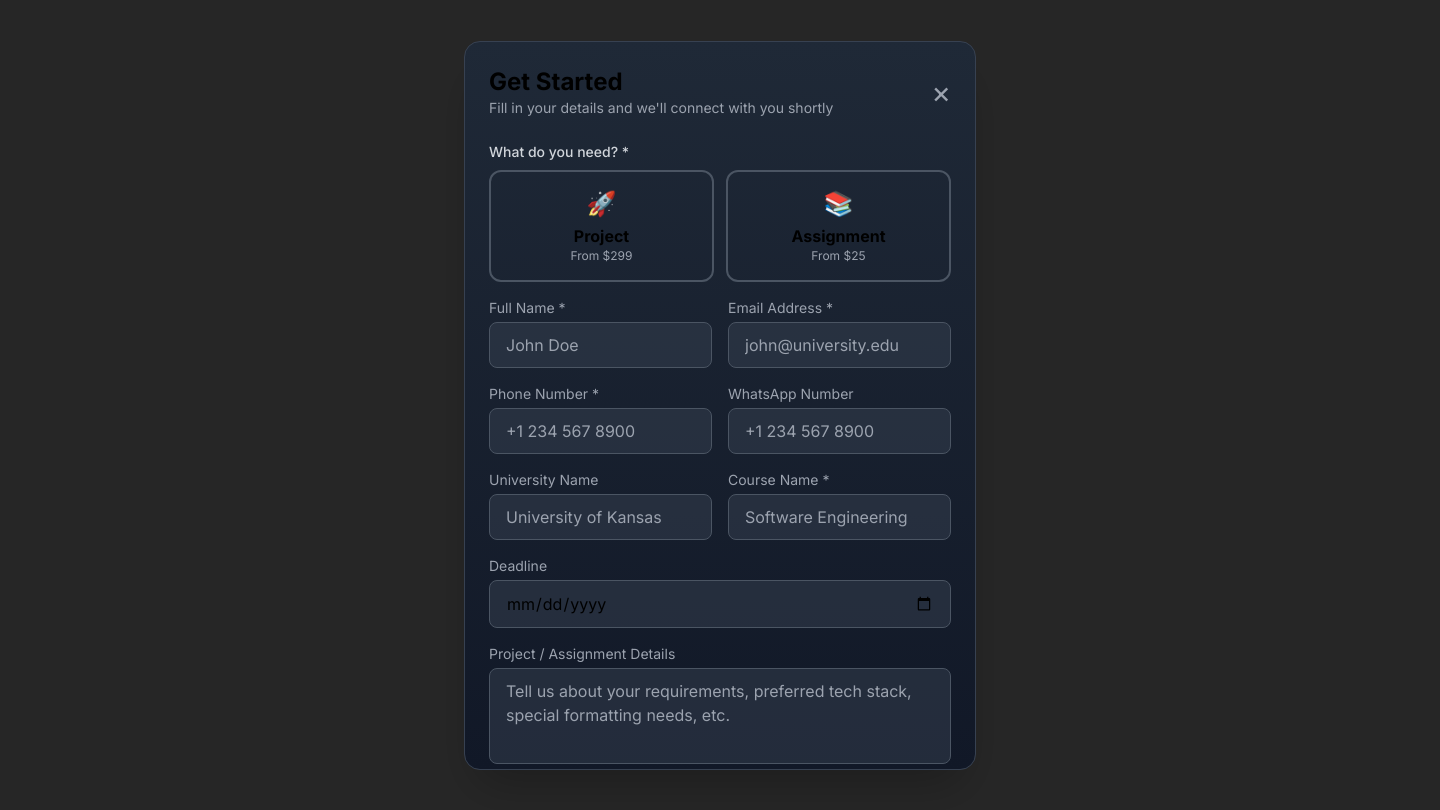
Test: ContactForm Component › Service Type Selection › shows package selection for project
Click the button "🚀 Project From $299".
click(602, 226)  # box [489, 170, 714, 282]
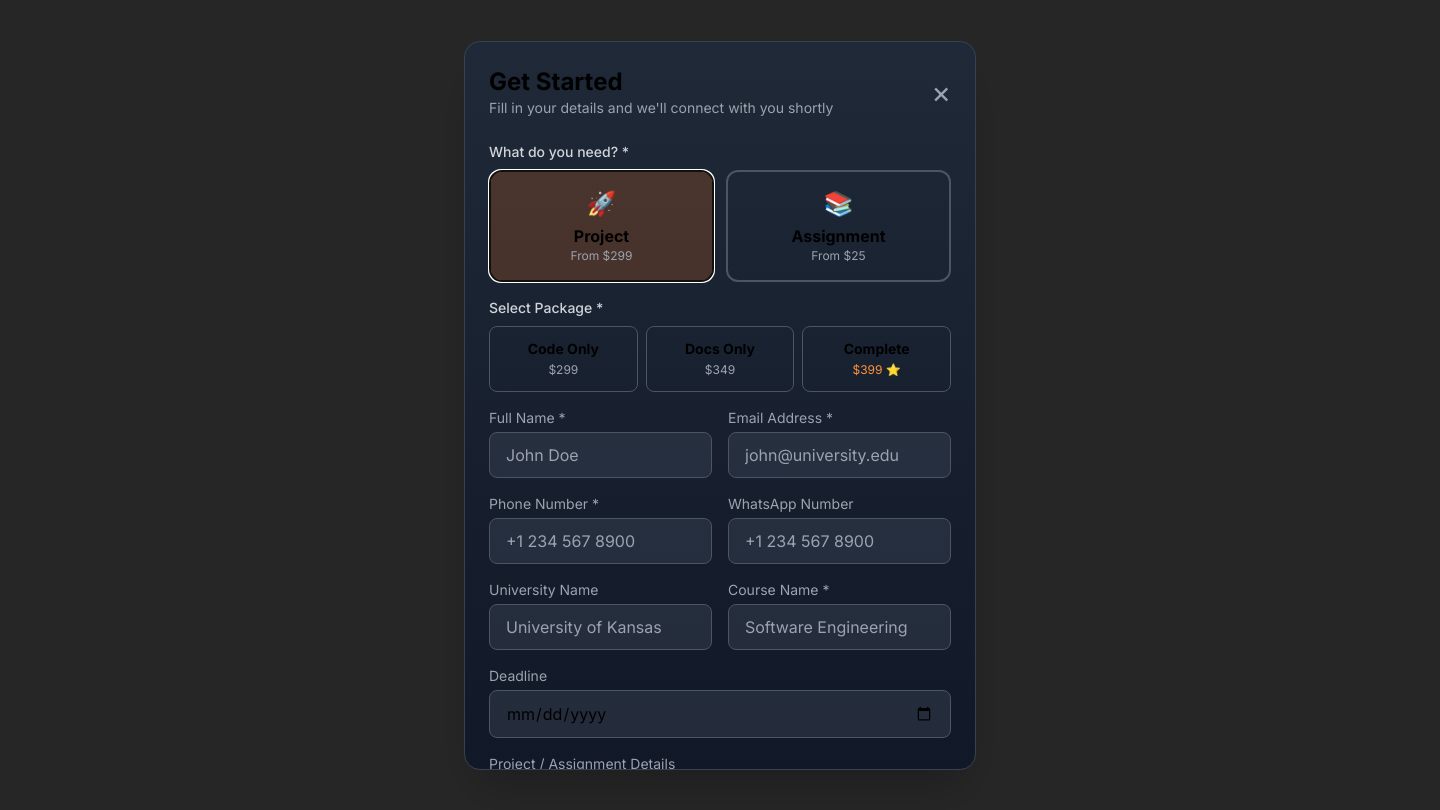
expect the text "Code Only" is shown: met, box [528, 340, 599, 356]
expect the text "Docs Only" is shown: met, box [685, 340, 755, 356]
expect the text "Complete" is shown: met, box [844, 340, 910, 356]
